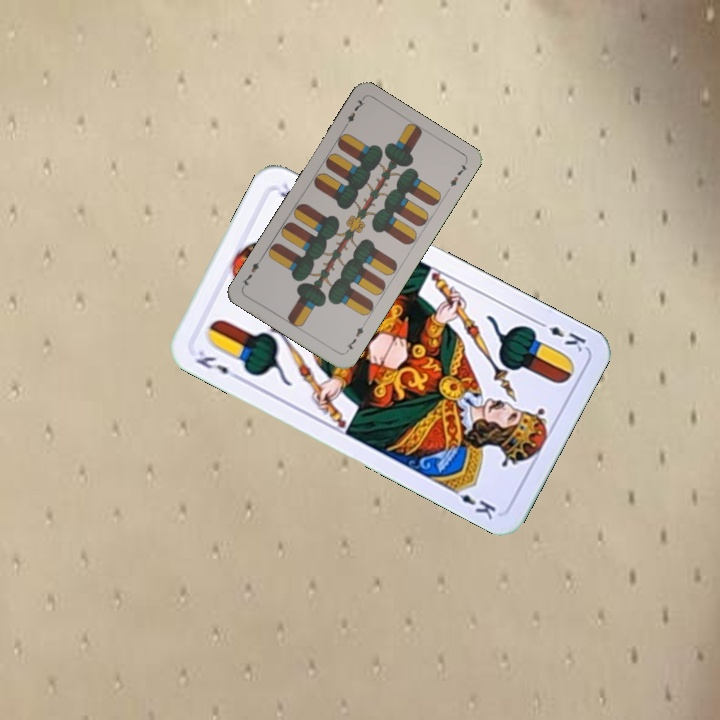E7: (340, 95, 368, 131), (341, 319, 368, 355)
EK: (533, 316, 589, 355), (191, 346, 243, 383)
